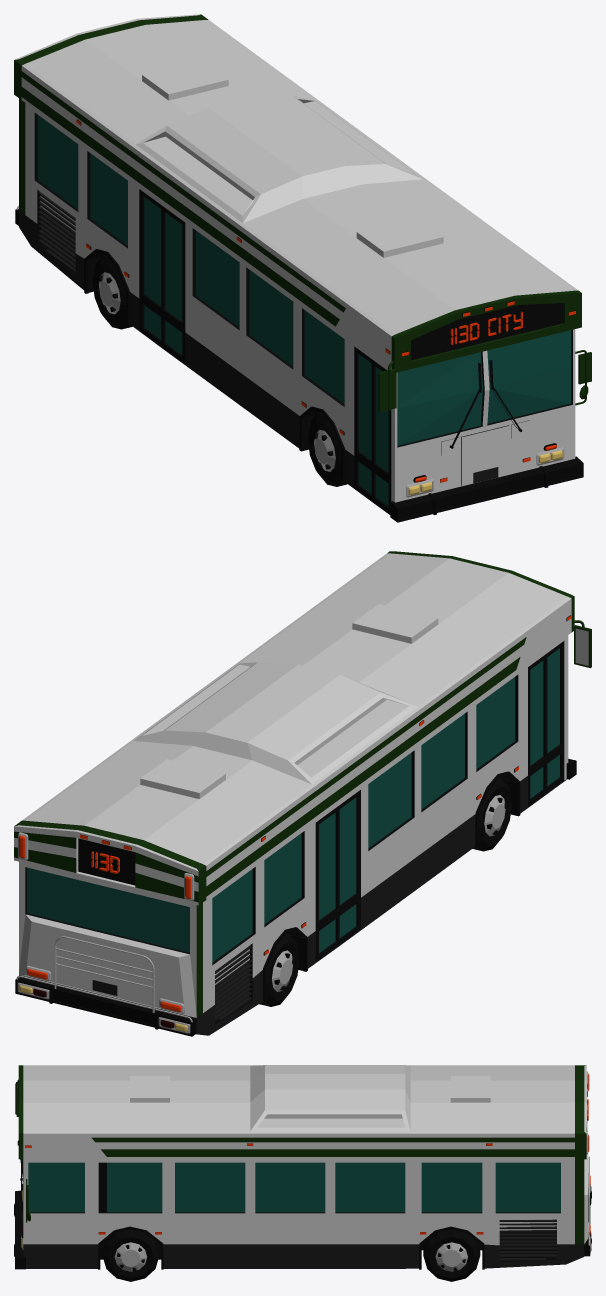
File: CityBus.FBX
3 renders of one model, top to bottom at view 1: azimuth 30°, elevation 25°; view 2: azimuth 150°, elevation 25°; view 3: azimuth 270°, elevation 25°, orthographic. The views are drawn at different scales.
Visible parts, largest first — view 1: CityBus, interieur, bumper_f, grill, wheels_b_r, wheel_f_r, mirror_r, lights; view 2: CityBus, interieur, bumper_b, grill, wheel_f_r, wheels_b_r, lights, mirror_r; view 3: CityBus, interieur, wheels_b_l, wheel_f_l, grill, bumper_f, lights, bumper_b.
Part boxes in pixels (x1,y1,x2,y2): CityBus: (14, 14, 581, 514); interieur: (37, 116, 571, 504); bumper_f: (390, 456, 583, 522); grill: (38, 192, 75, 273); wheels_b_r: (92, 255, 132, 329); wheel_f_r: (308, 412, 347, 486); mirror_r: (378, 361, 396, 411); lights: (77, 119, 575, 497); CityBus: (14, 551, 574, 1035); interieur: (133, 648, 559, 984); bumper_b: (15, 936, 196, 1036); grill: (215, 945, 251, 1020); wheel_f_r: (472, 778, 511, 851); wheels_b_r: (259, 933, 299, 1006); lights: (17, 615, 570, 1033); mirror_r: (572, 620, 591, 667); CityBus: (18, 1065, 588, 1269); interieur: (22, 1159, 560, 1230); wheels_b_l: (423, 1229, 480, 1281); wheel_f_l: (102, 1229, 159, 1281); grill: (499, 1219, 556, 1260); bumper_f: (14, 1190, 25, 1269); lights: (18, 1071, 590, 1252); bumper_b: (584, 1156, 591, 1256).
Bounding box in the file's own units: 37.48 × 37.08 × 115.
